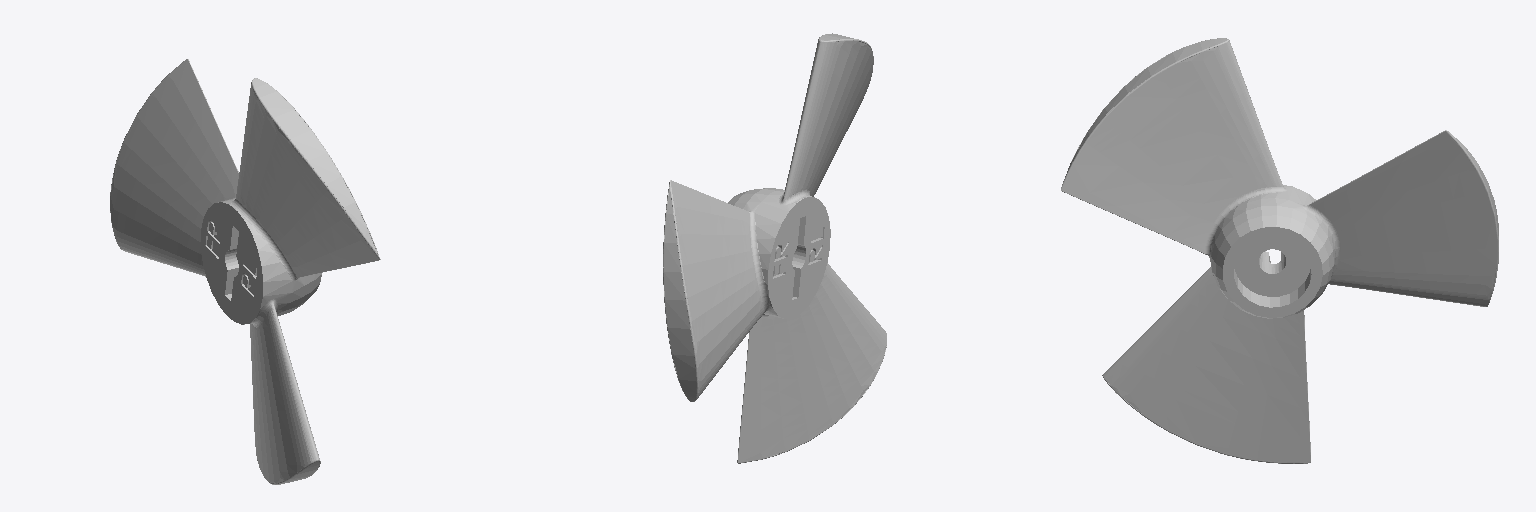
Rendered from red_propcw_minitortuga.obj.
3 renders of one model, left to right at view 1: azimuth 30°, elevation 25°; view 2: azimuth 150°, elevation 25°; view 3: azimuth 270°, elevation 25°, orthographic.
Parts seen in each view (by area): view 1: PropMinitortuga; view 2: PropMinitortuga; view 3: PropMinitortuga.
Boxes of the visible parts, box(x1,y1,x2,y2) form: PropMinitortuga: box(110, 59, 380, 484); PropMinitortuga: box(663, 33, 886, 463); PropMinitortuga: box(1061, 38, 1498, 463).
Size of the model in its own units: 0.0173 by 0.0891 by 0.0871.